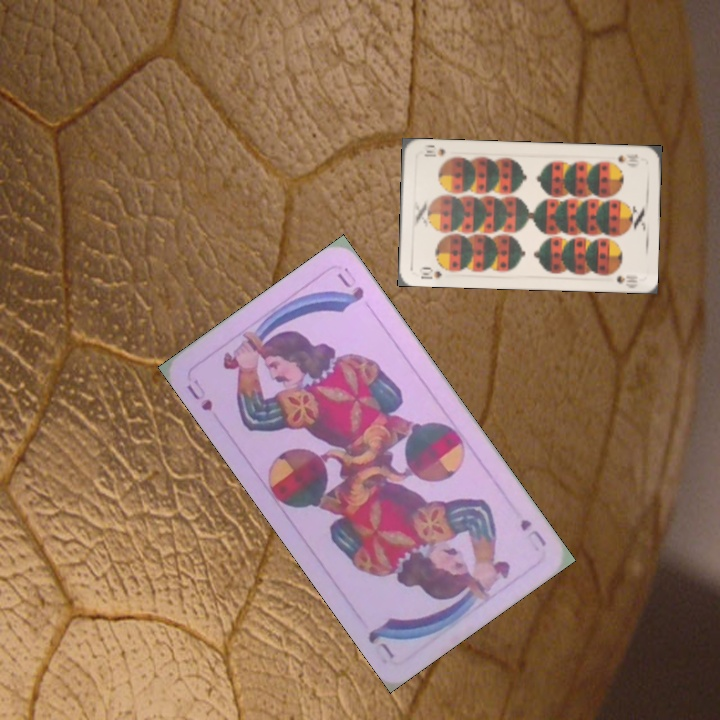S10: (415, 263, 445, 282), (614, 150, 641, 165)
SU: (182, 374, 215, 414), (515, 515, 549, 549)
